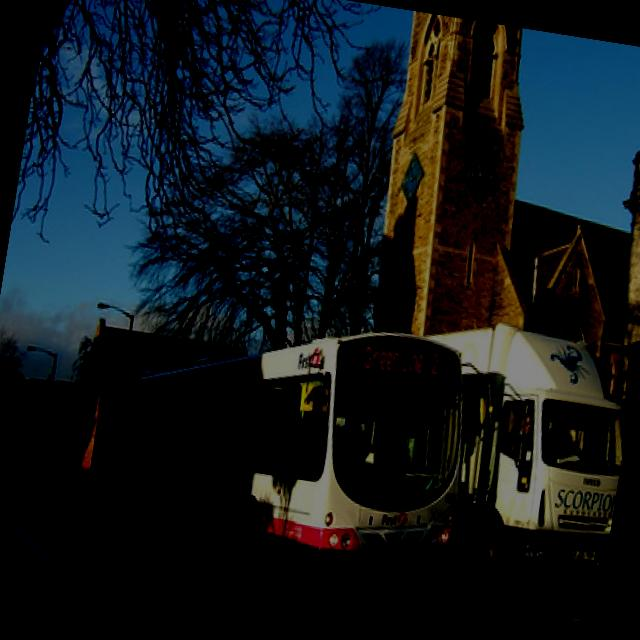Vehicle: (106, 291, 488, 598), (374, 310, 640, 609)
